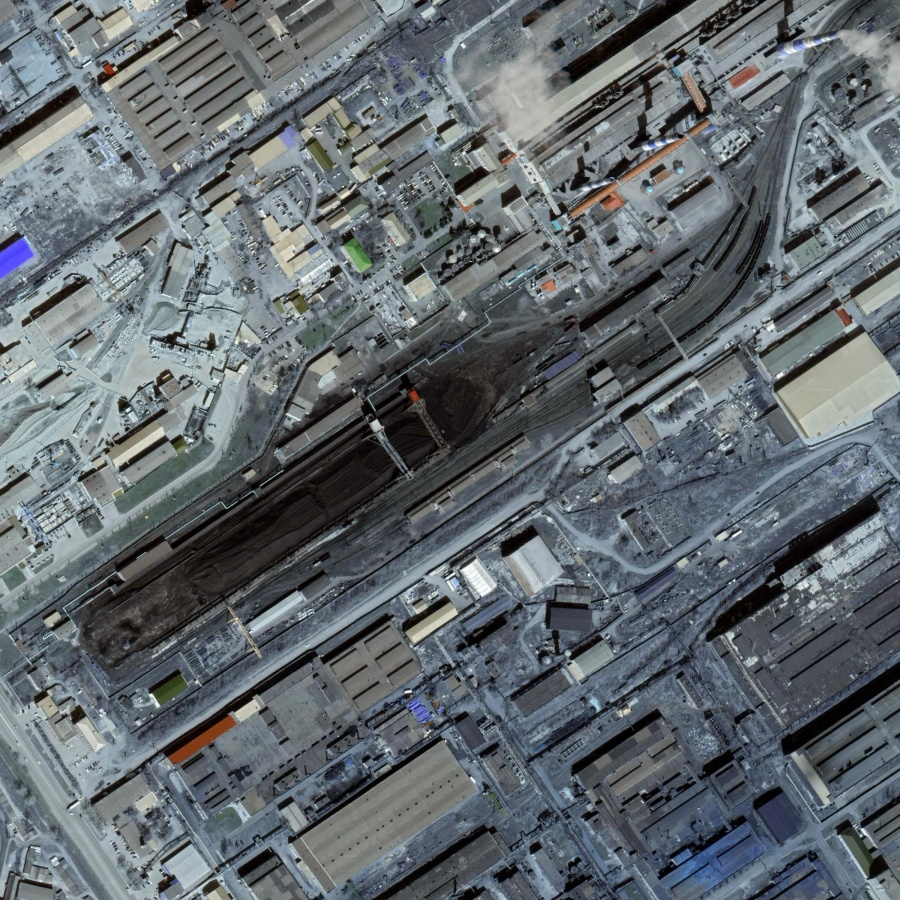PowerPlant: (56, 313, 528, 683)
